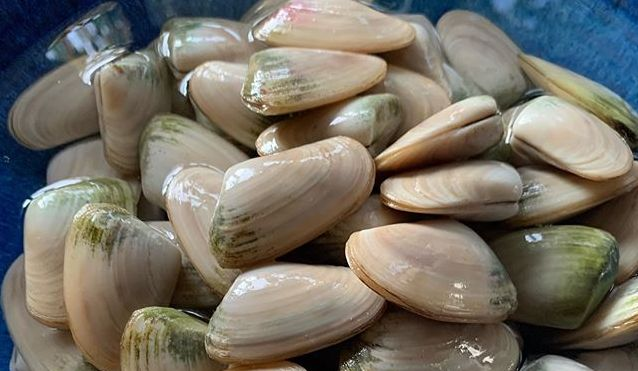tuatua: (210, 134, 377, 272), (65, 200, 184, 371), (202, 260, 390, 363), (342, 216, 518, 323), (17, 172, 140, 322), (495, 223, 622, 333), (513, 47, 638, 138), (506, 90, 632, 176), (375, 91, 506, 171), (240, 46, 386, 115), (433, 7, 531, 107), (139, 110, 240, 205), (8, 54, 105, 152), (93, 45, 169, 170), (245, 1, 420, 53), (378, 159, 524, 218), (163, 163, 221, 287), (184, 58, 260, 149), (116, 299, 210, 371), (157, 11, 248, 76)
